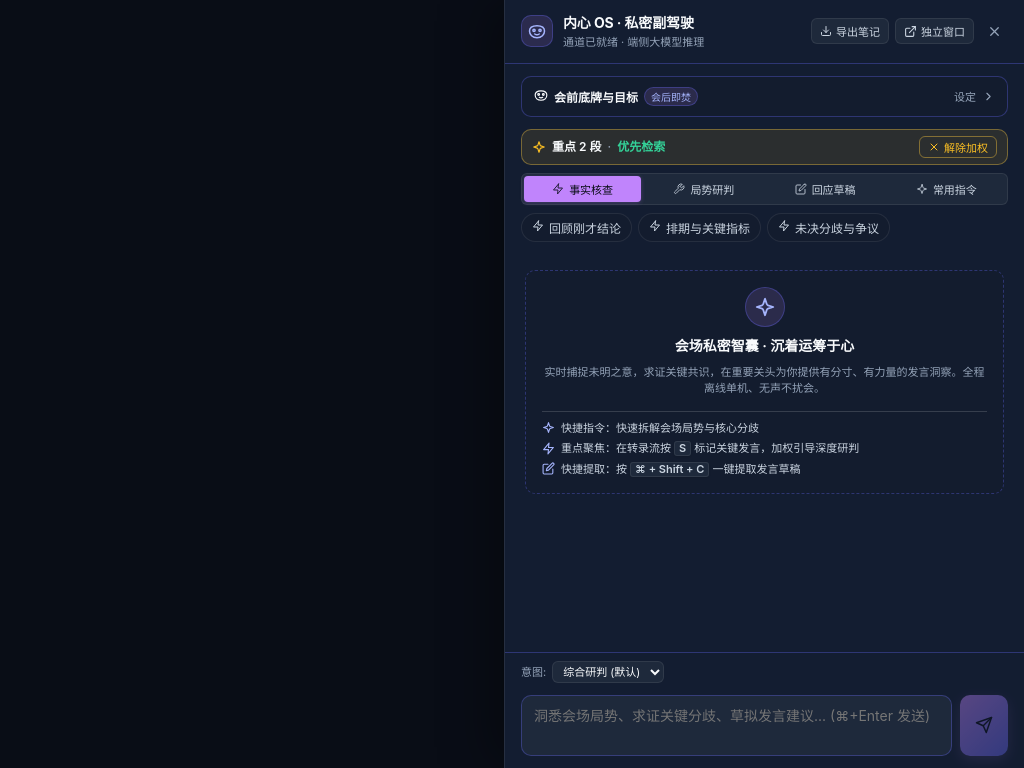
InnerOSPanel › toggles ephemeral context drawer
What coordinates should you click on to do the following:
click the button with class "inner-os-ephemeral-toggle"
I would click on:
 (596, 97)
Its box is [522,76,1007,116].
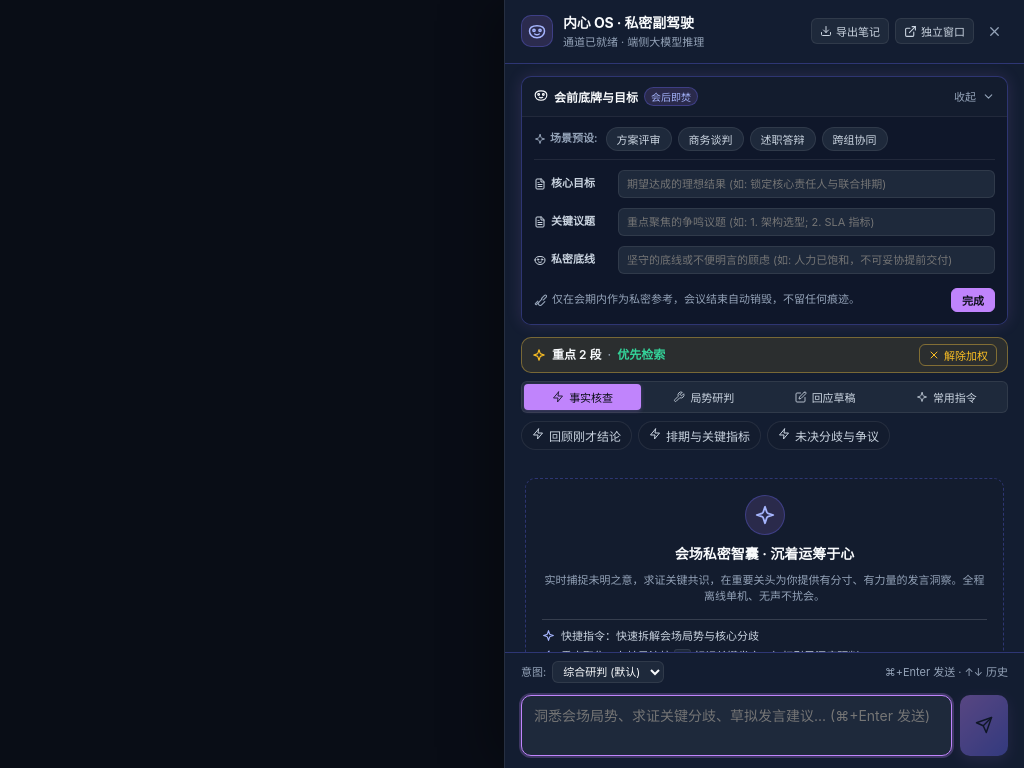
Check: the text "核心目标" is shown, box [551,175,595,192]
Check: the text "关键议题" is shown, box [551,213,595,230]
Check: the text "私密底线" is shown, box [551,251,595,268]
